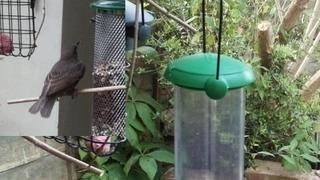starling: (28, 40, 85, 119)
